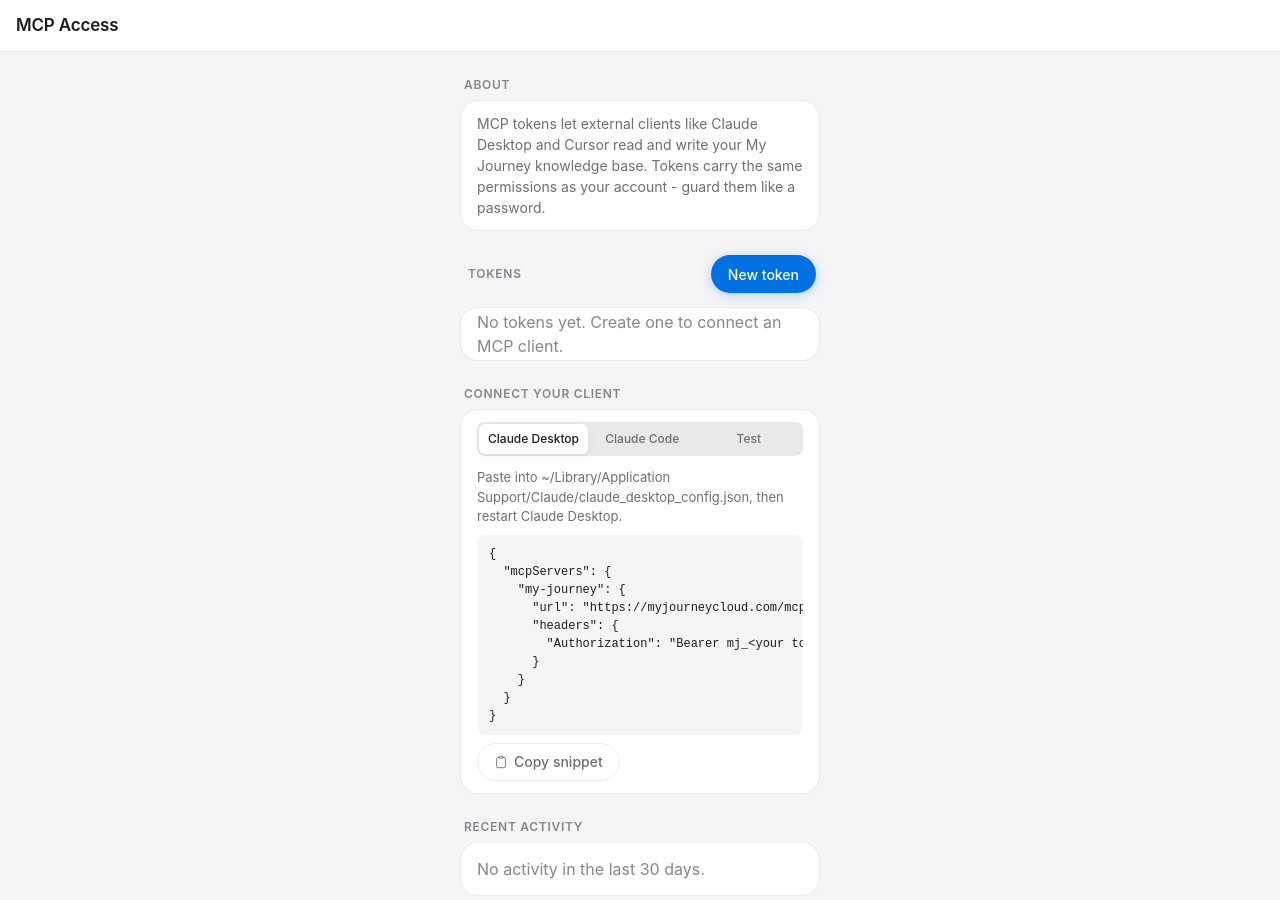
Test case: McpAccessPage › reveals the raw token only once after creation
Click the button "New token". click: x=763, y=274
box: [711, 255, 816, 293]
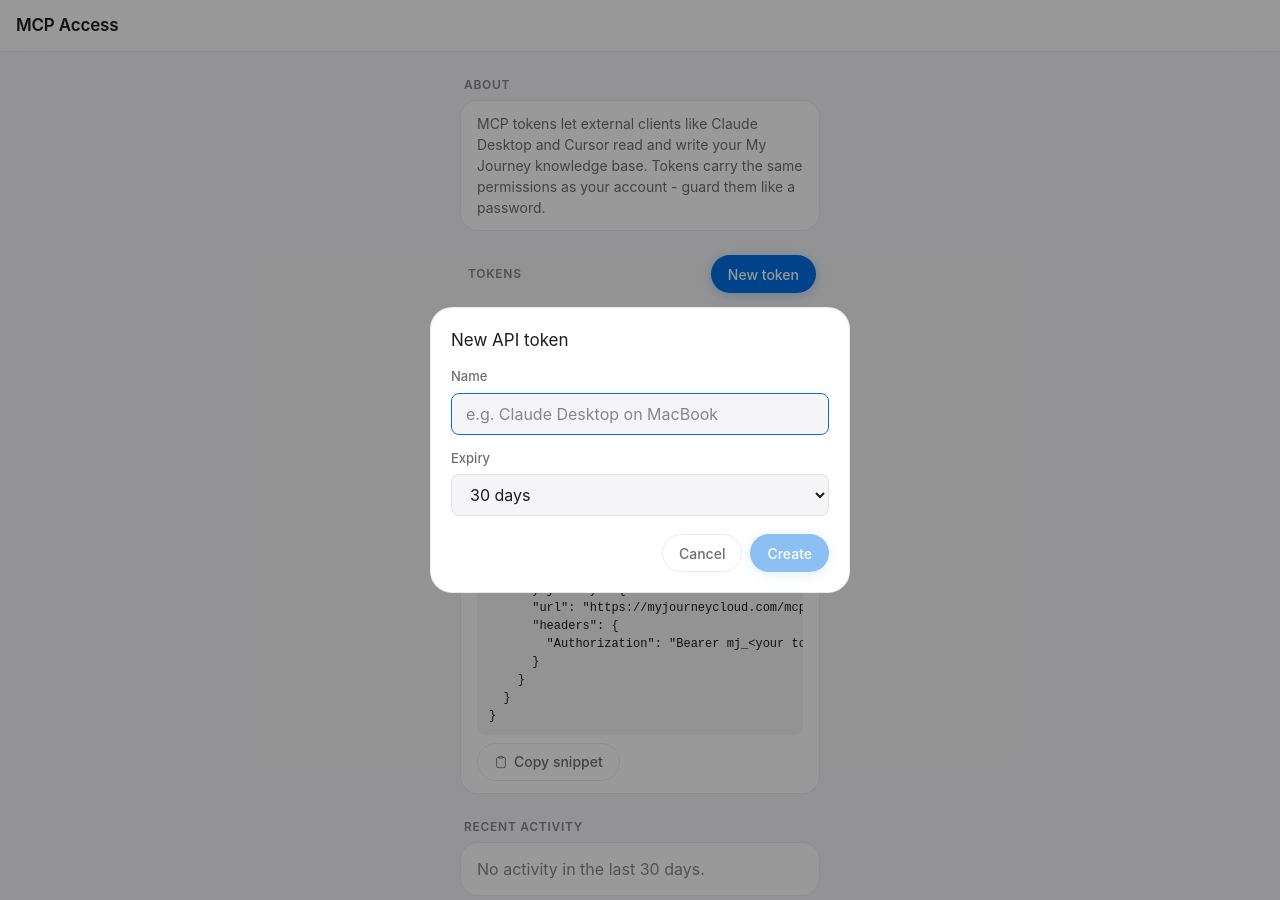
Type "My Mac" into the field labelled "Name". click: x=640, y=414
box: [451, 393, 829, 435]
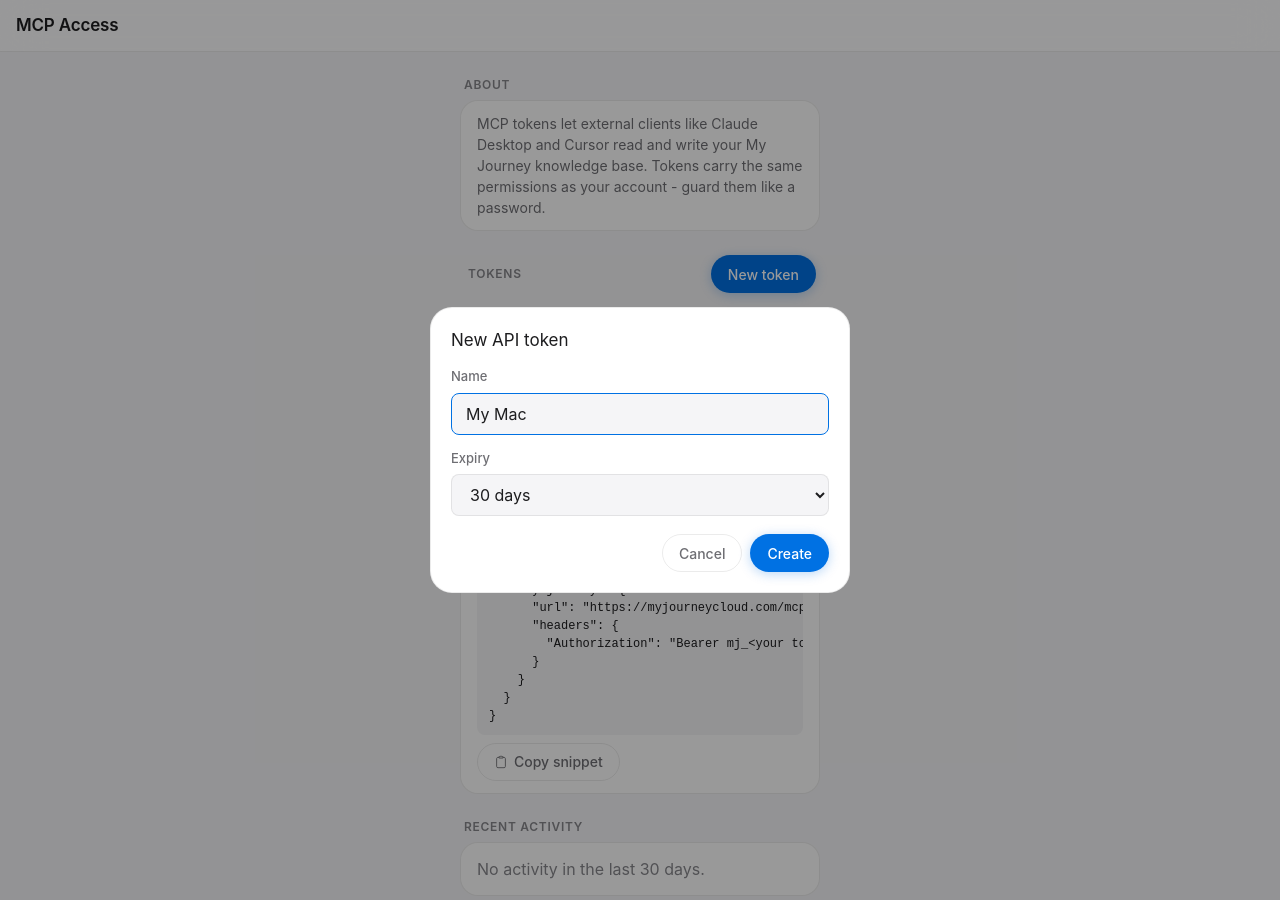
Click the button "Create". click: x=790, y=553
box: [750, 534, 829, 572]
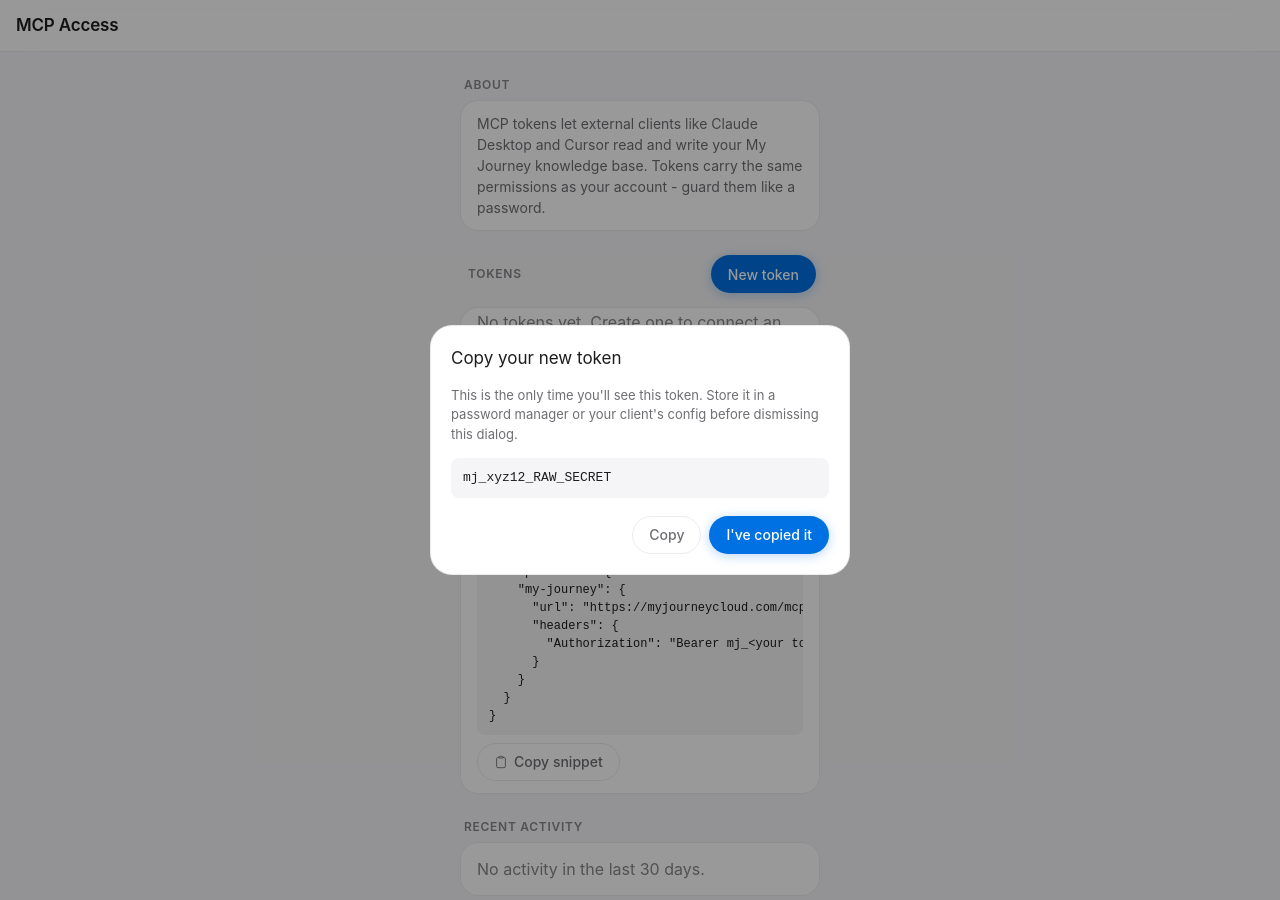
Now the text "mj_xyz12_RAW_SECRET" is shown, box [451, 458, 829, 498]
Click the button "I've copied it". click: x=769, y=535
box: [709, 516, 829, 554]
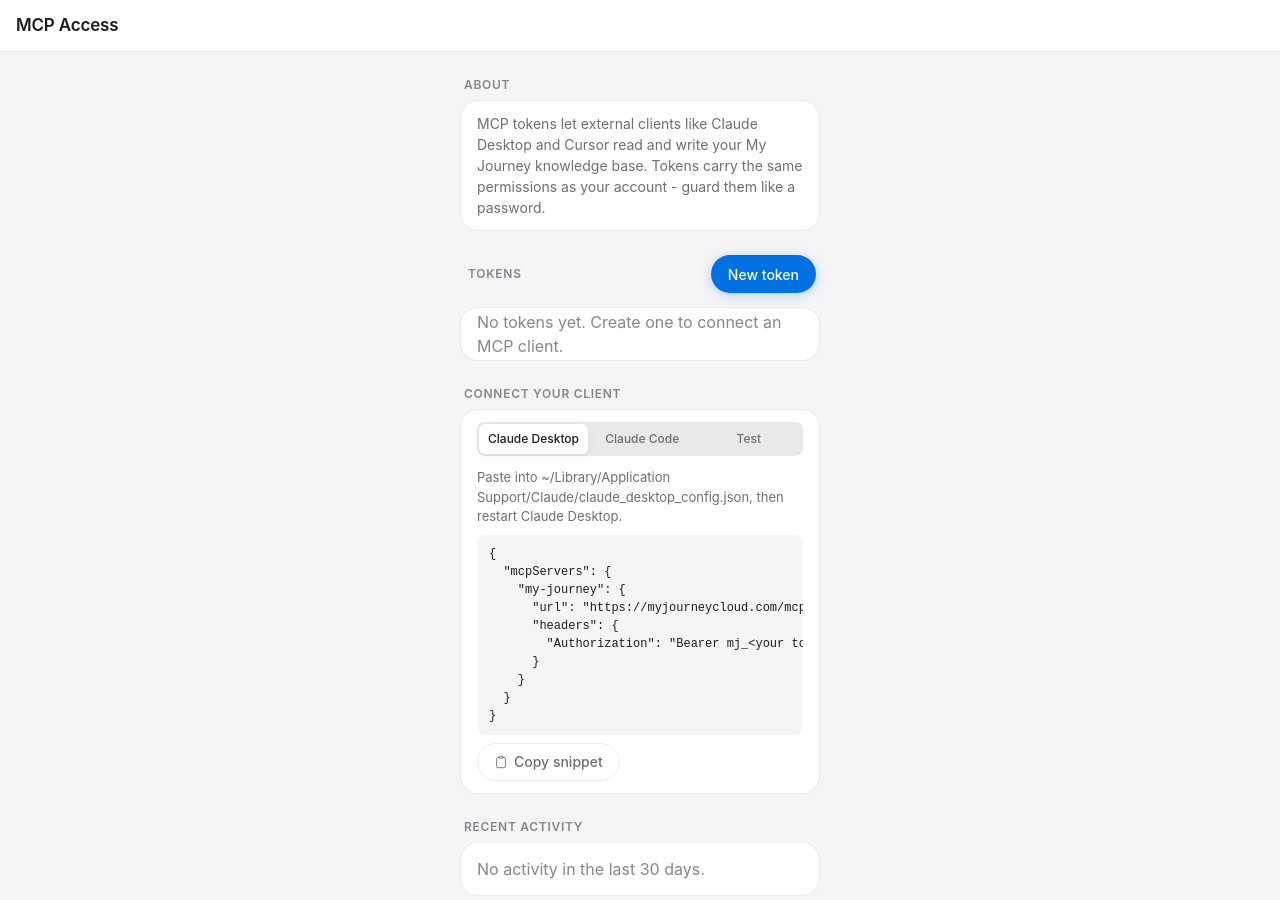
Now the text "mj_xyz12_RAW_SECRET" is gone
